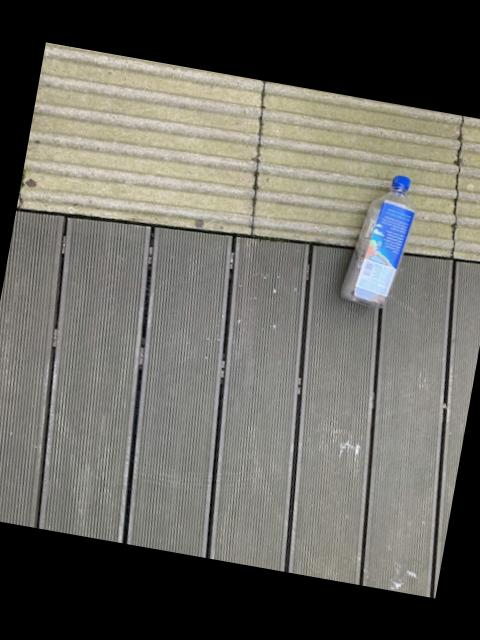plastic: (338, 174, 412, 305)
